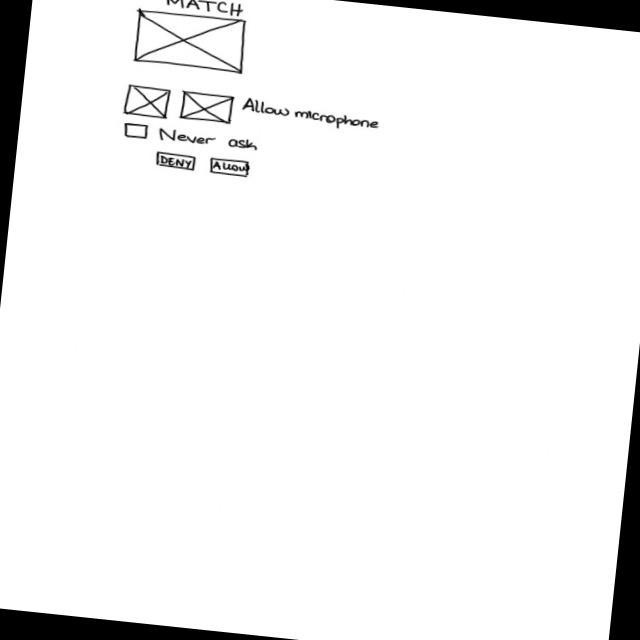button: (207, 157, 253, 180), (153, 151, 198, 173)
checkbox: (122, 121, 262, 154)
image: (132, 10, 250, 77), (178, 90, 236, 127), (124, 83, 173, 121)
label: (244, 97, 383, 133), (162, 1, 247, 18)
